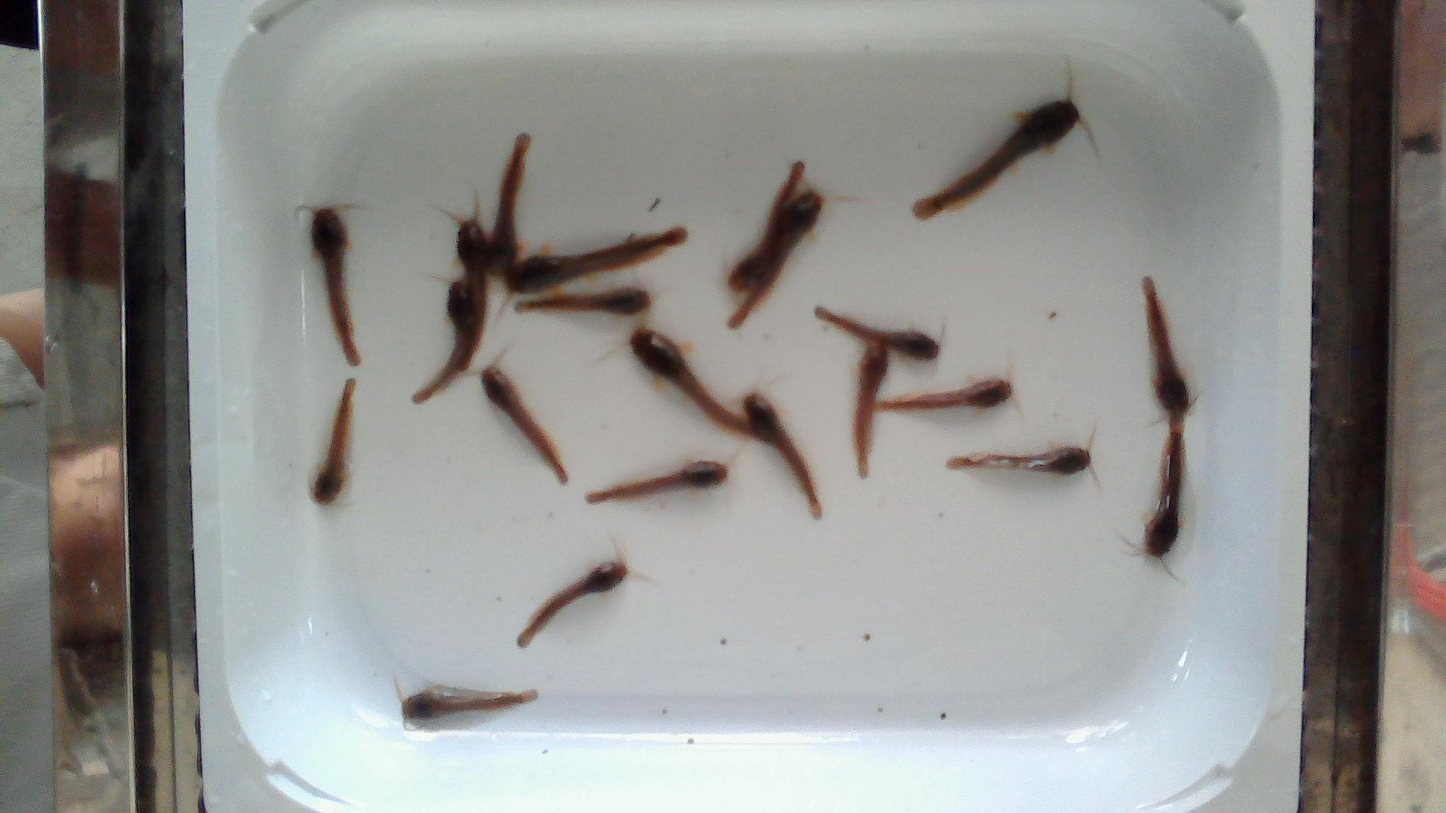lele: (913, 98, 1080, 218), (630, 329, 761, 440), (726, 192, 823, 329), (504, 227, 687, 293), (722, 163, 803, 290), (482, 367, 568, 483), (744, 395, 824, 519), (517, 559, 628, 646), (311, 208, 361, 365), (414, 283, 473, 403), (1144, 277, 1192, 423), (484, 132, 531, 275), (586, 461, 728, 503), (1144, 425, 1187, 562), (311, 379, 355, 504), (825, 315, 938, 360), (853, 338, 889, 477), (455, 217, 487, 367), (404, 684, 538, 718), (878, 378, 1011, 410), (946, 446, 1091, 474), (515, 287, 651, 315)
